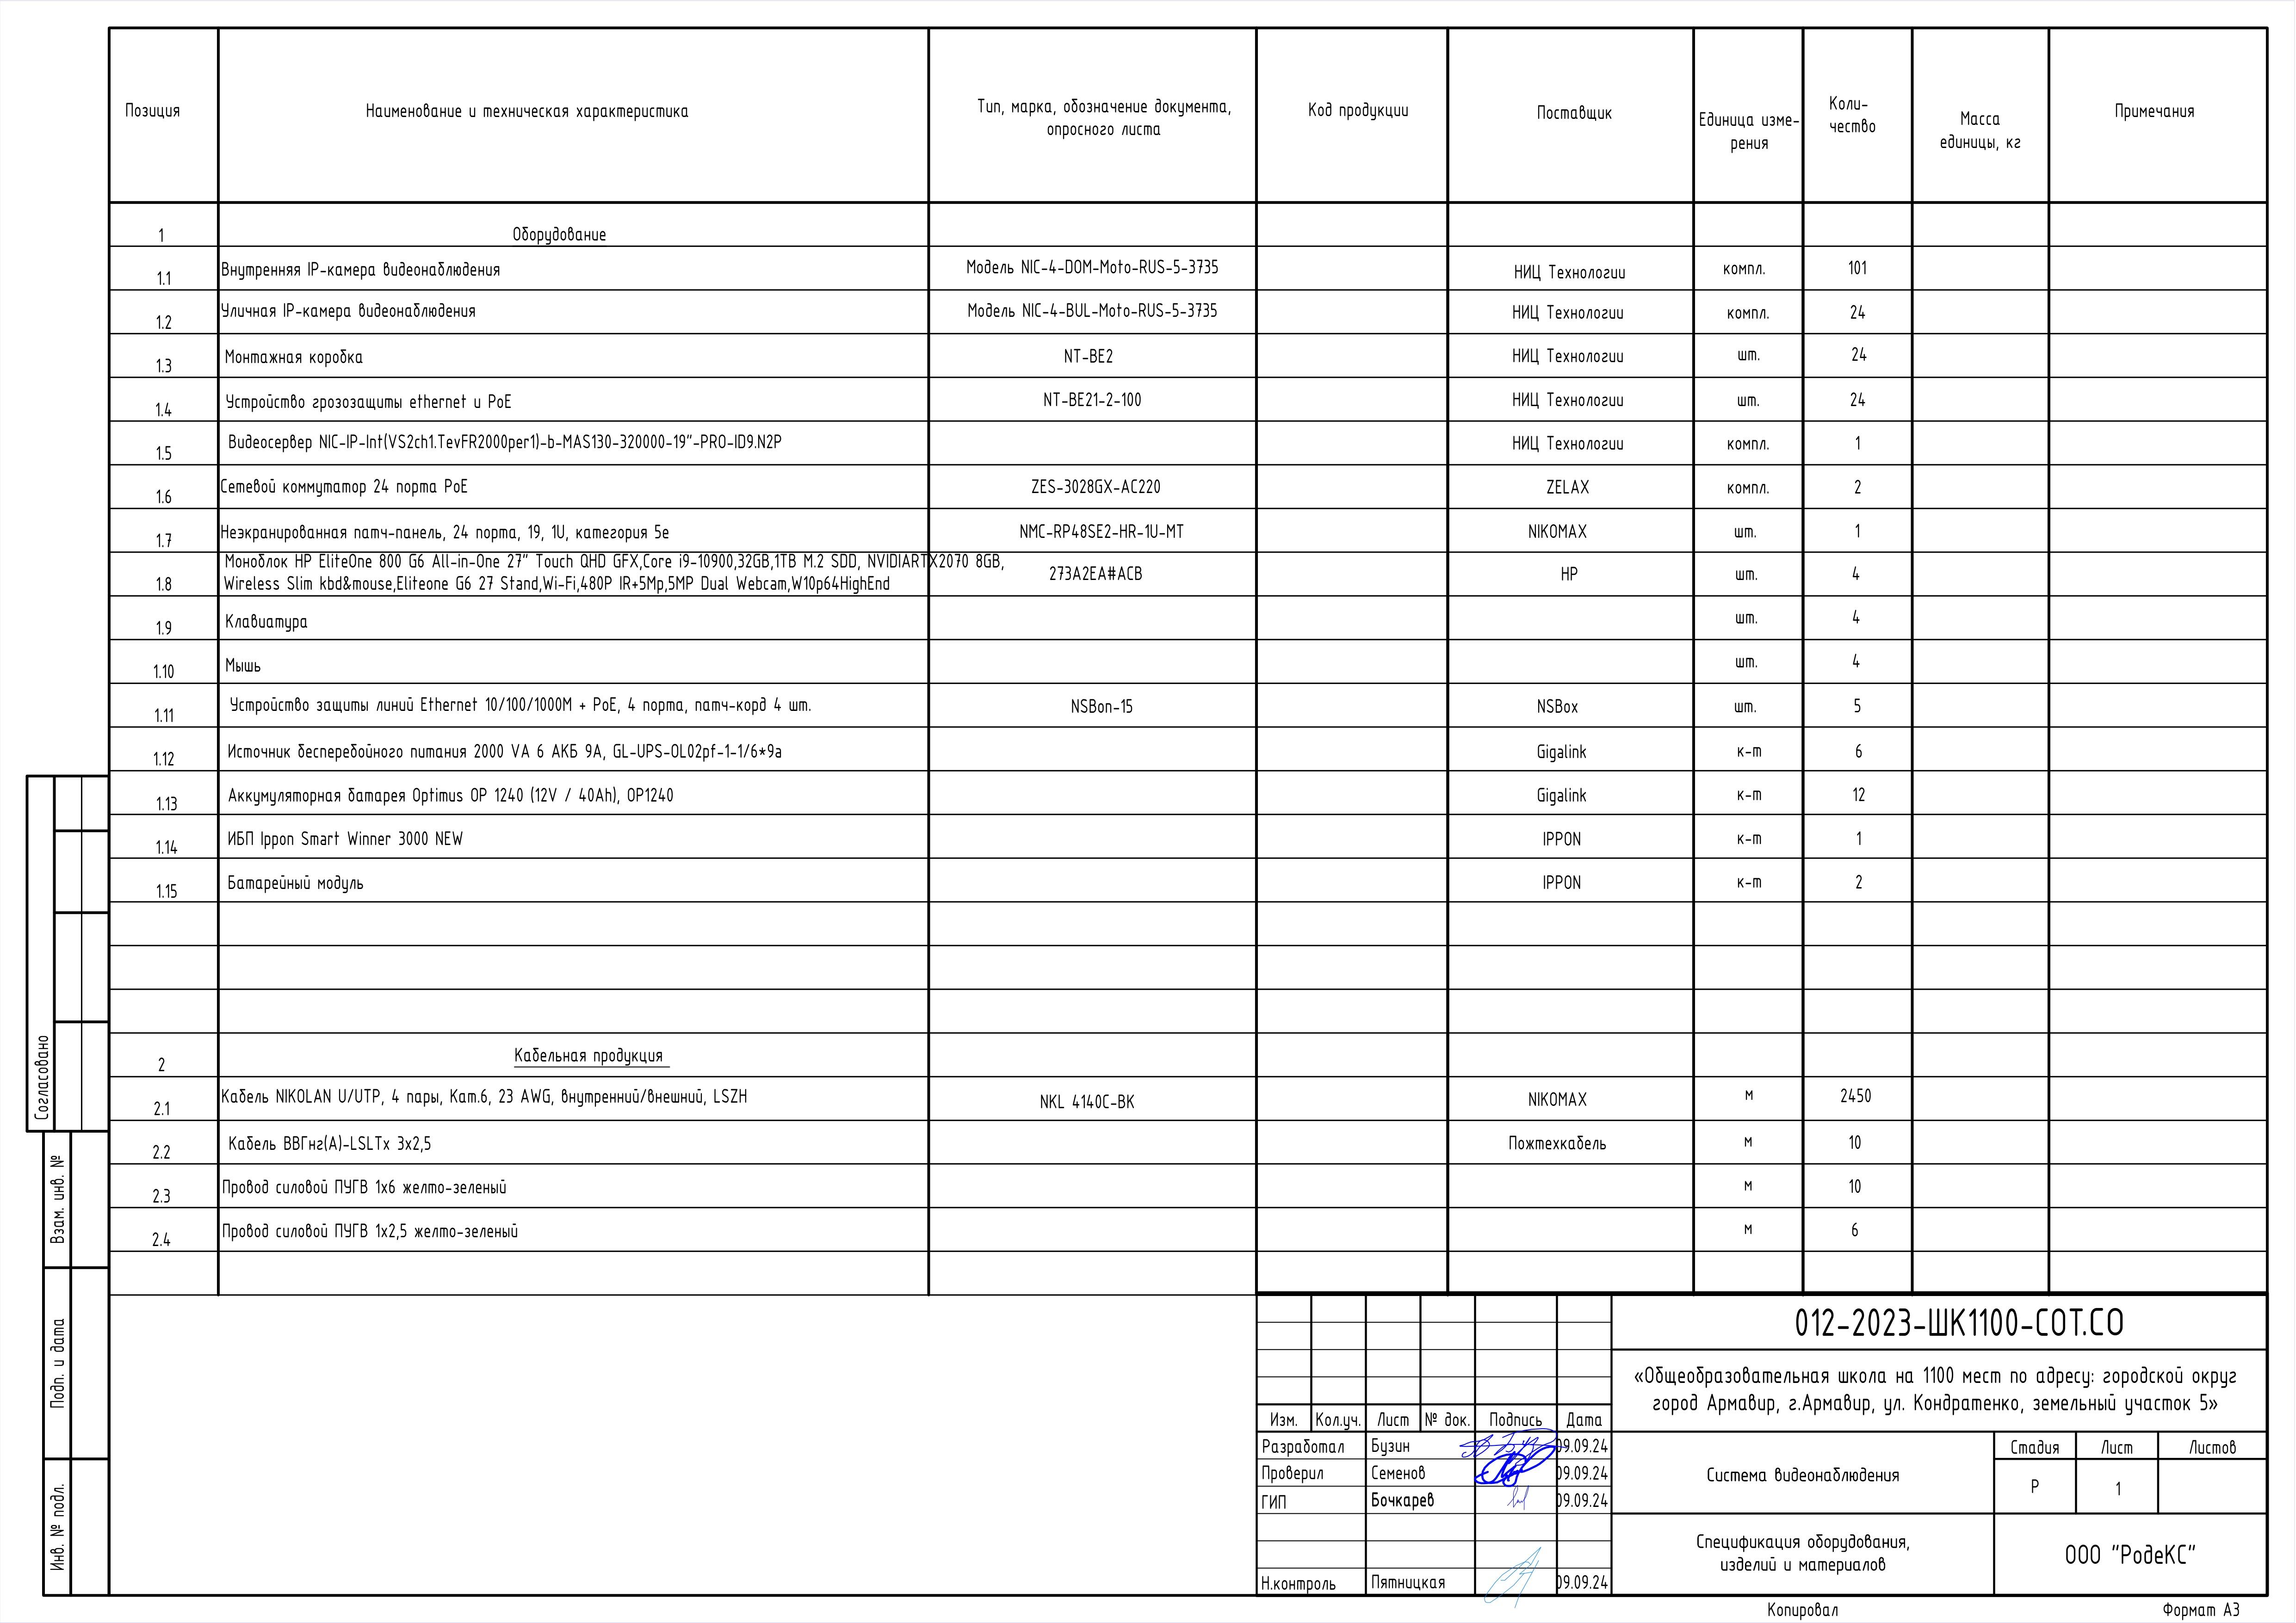Name of costs: (219, 203, 929, 1295)
Note: (928, 203, 1256, 1293)
Quantity: (1803, 203, 1912, 1294)
Unit of measurement: (1694, 203, 1802, 1293)
